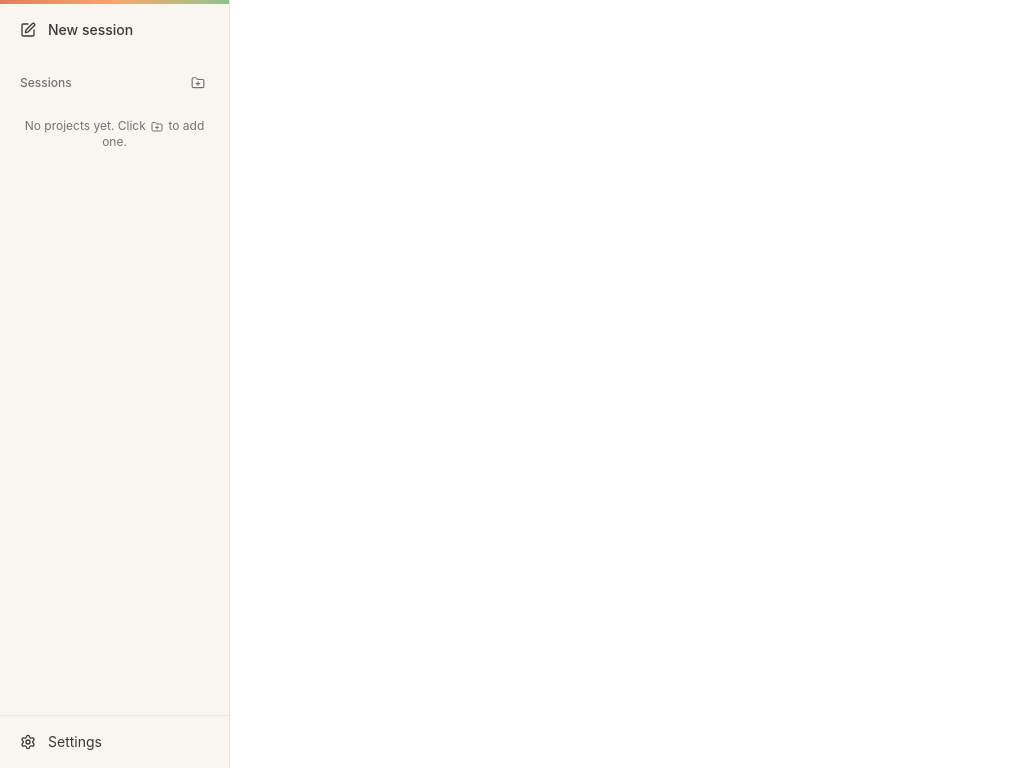
Test: Sidebar workspace controls › shows manual fallback fields with user-friendly guidance when picker is unavailable
The image size is (1024, 768).
Click the button named "Add a new directory".
click(198, 83)  # box [187,72,209,94]
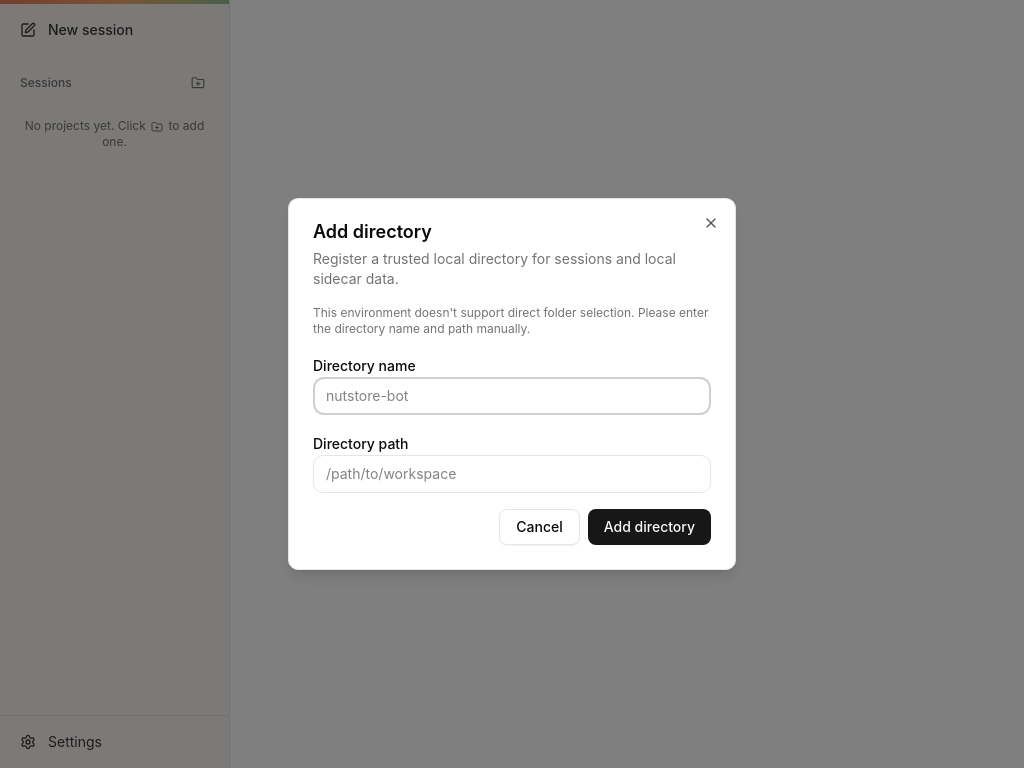
Now the field labelled "Directory name" is shown, box [313,377,711,415]
Now the field labelled "Directory path" is shown, box [313,455,711,493]
Now the text "This environment doesn't support direct folder selection. Please enter the directory name and path manually." is shown, box [313,305,708,336]
